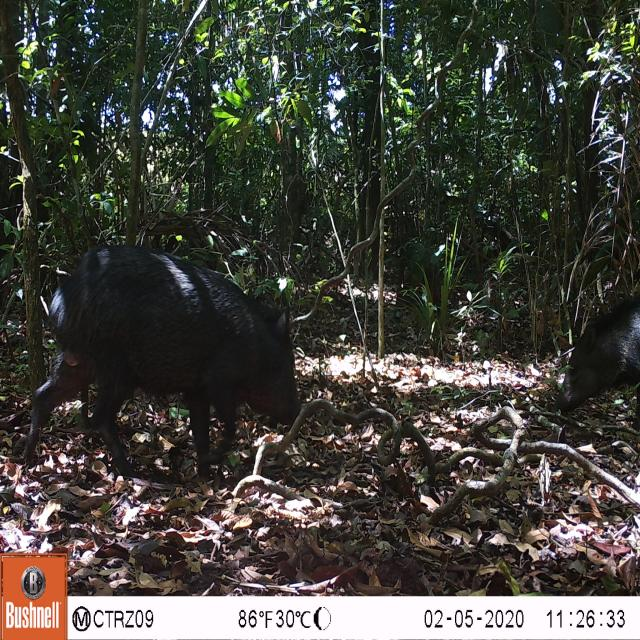Collared Peccary: (18, 235, 300, 487), (548, 266, 638, 464)
